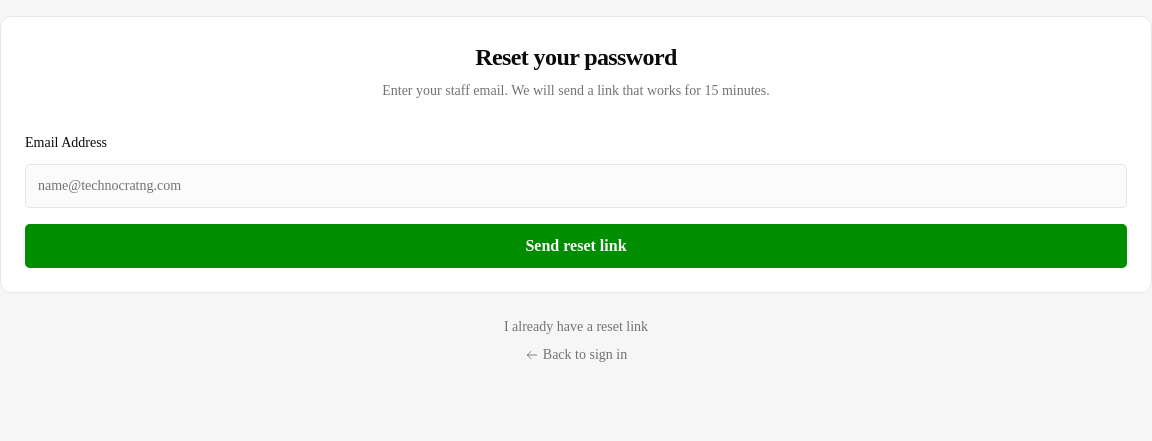
Scenario: forgot password › shows the rate-limit message from the backend
The width and height of the screenshot is (1152, 441).
Step 1. Type "ada@technocratng.com" into the field labelled "Email Address" → (576,186), box [25,164,1127,208]
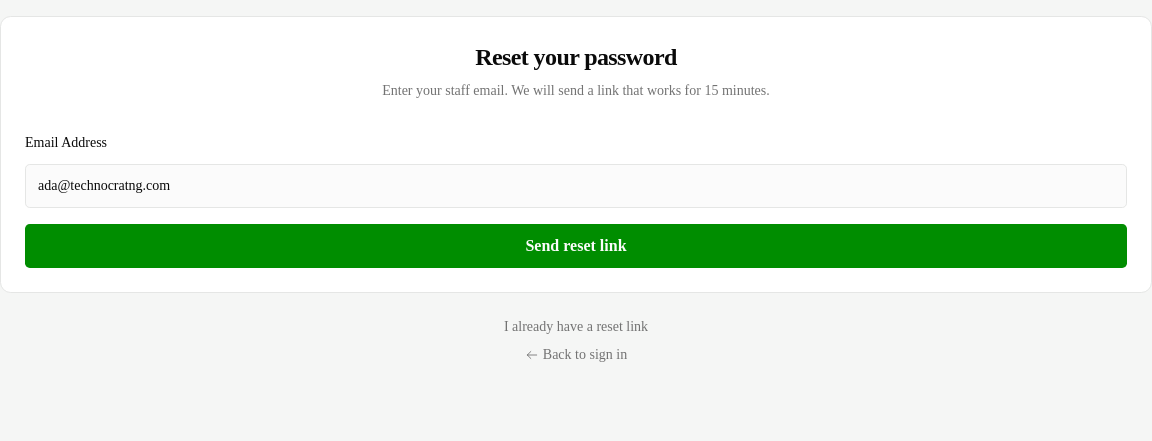
Step 2. Click the button "Send reset link" → (576,246), box [25,224,1127,268]
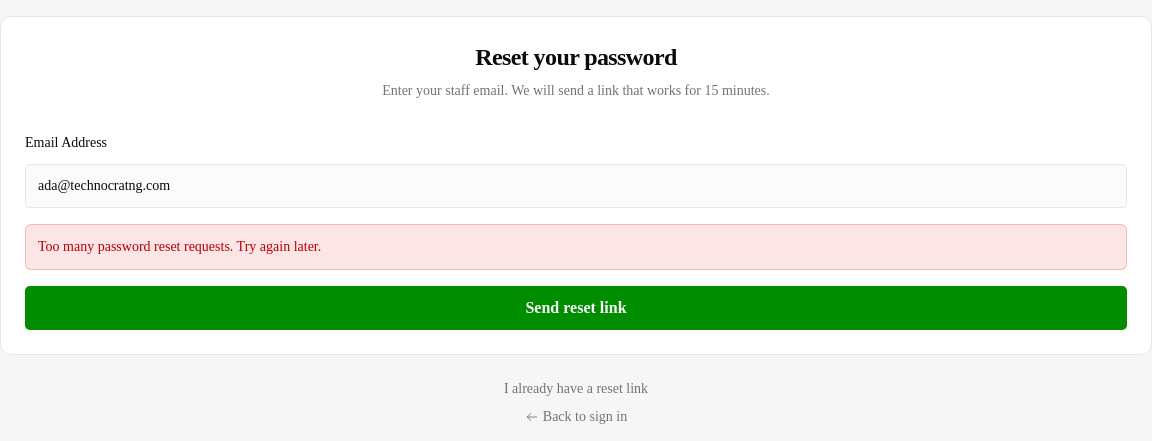
Check: the message shows "Too many password reset requests", box [38,239,321,254]
